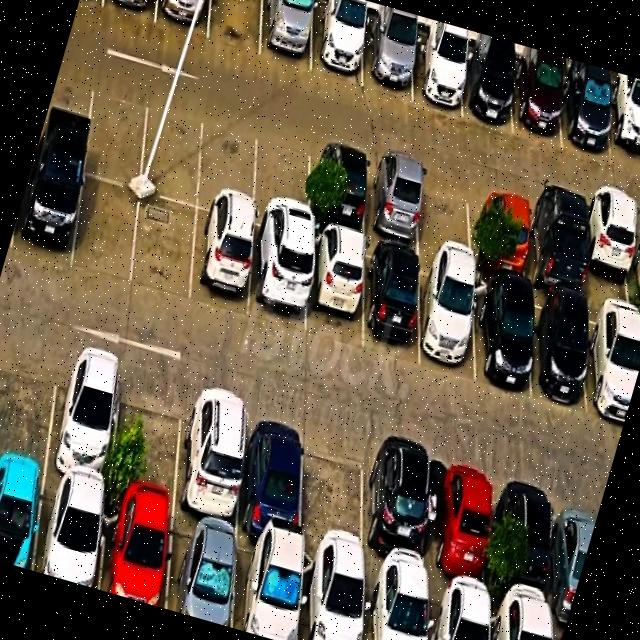empty: (109, 362, 185, 512), (300, 419, 364, 566), (0, 328, 60, 471), (139, 91, 206, 207), (71, 175, 140, 284), (83, 74, 148, 187), (131, 192, 196, 304), (252, 123, 310, 239), (197, 108, 256, 222), (419, 166, 471, 262), (207, 0, 262, 56)
occupied: (44, 343, 122, 492), (175, 381, 247, 530), (238, 399, 306, 545), (364, 435, 430, 584), (428, 451, 488, 601), (10, 154, 84, 268), (498, 470, 554, 617), (33, 476, 105, 589), (165, 514, 236, 627), (99, 496, 170, 608), (232, 534, 301, 640), (305, 228, 364, 349), (526, 289, 585, 407), (473, 276, 530, 397), (189, 209, 252, 318), (362, 242, 419, 362), (419, 258, 474, 381), (585, 300, 640, 421), (553, 485, 601, 621), (248, 227, 306, 335), (298, 551, 362, 640), (309, 139, 367, 237), (527, 197, 583, 298), (473, 182, 527, 280), (366, 153, 420, 249), (586, 212, 636, 307), (561, 69, 611, 164), (310, 0, 365, 86), (0, 465, 44, 570), (512, 57, 561, 148), (461, 46, 512, 133), (364, 572, 426, 640), (412, 32, 461, 116), (362, 18, 411, 99), (259, 0, 312, 72), (427, 586, 487, 640), (606, 85, 640, 174), (490, 603, 550, 640), (154, 0, 210, 38), (102, 0, 157, 22)
